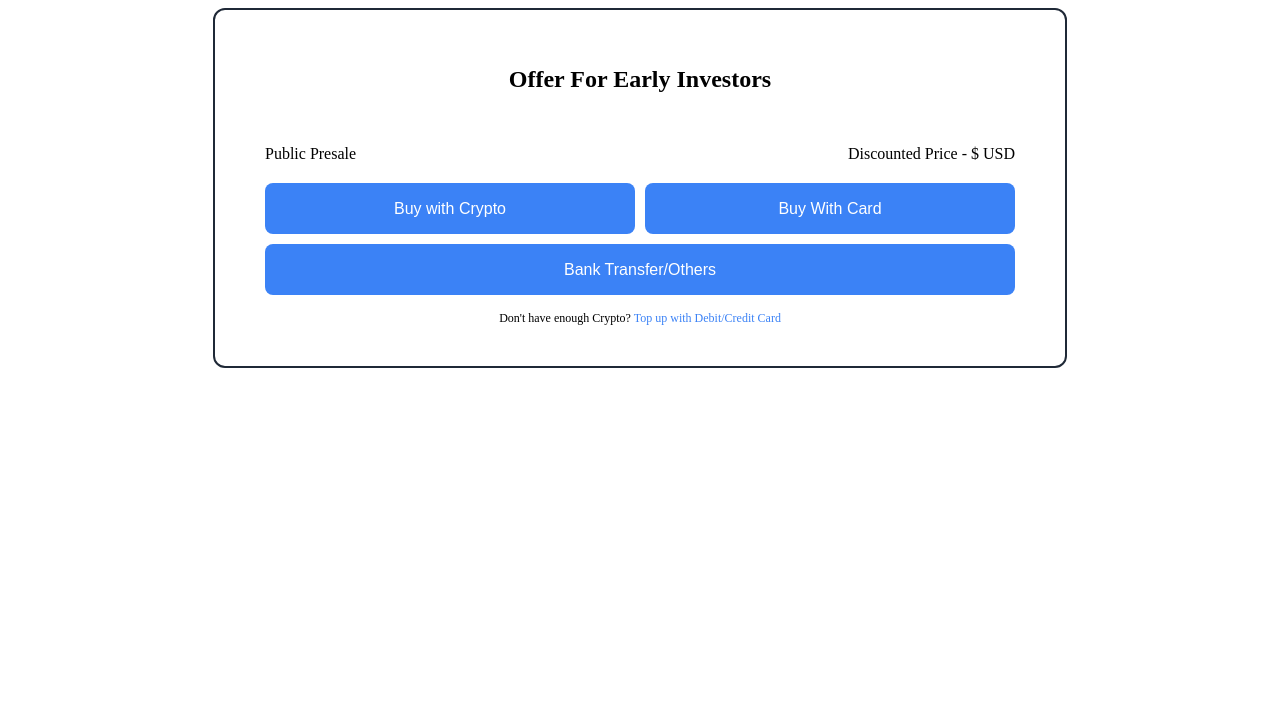
PreSale › opens top up modal when help link is clicked
The width and height of the screenshot is (1280, 720).
What coordinates should you click on to do the following:
click the text "Top up with Debit/Credit Card"
I would click on:
 (707, 318)
Its box is top-left (634, 311), bottom-right (781, 325).
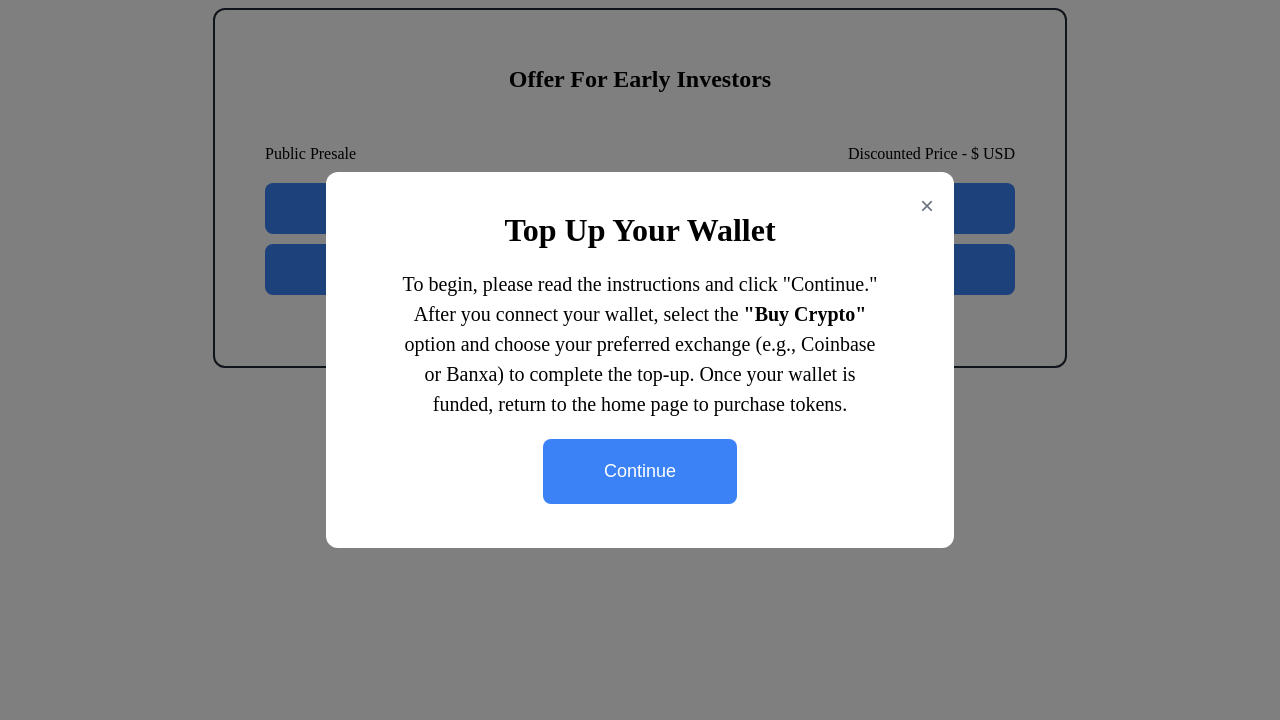
Expected: the heading "Top Up Your Wallet" is shown, top-left (504, 212), bottom-right (776, 248)
